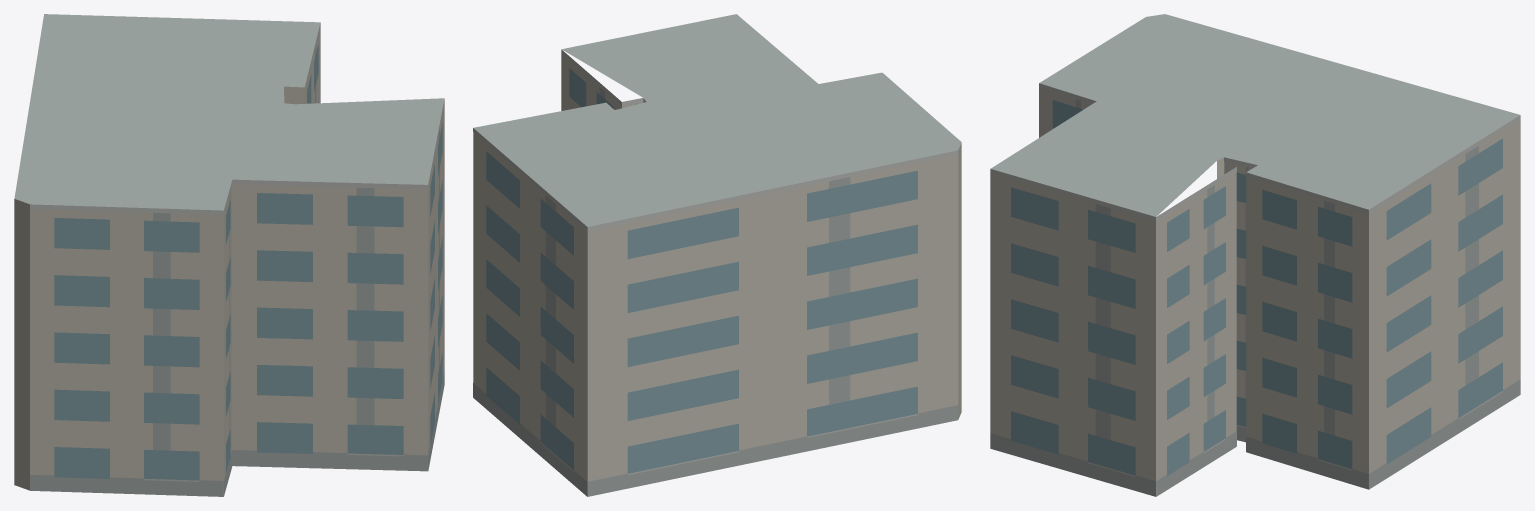
File: survey-upis-32663943.glb
3 views of the same model, side by side, from view 1: azimuth 30°, elevation 25°; view 2: azimuth 150°, elevation 25°; view 3: azimuth 270°, elevation 25° (orthographic). The views are drawn at different scales.
Parts seen in each view (by area): view 1: survey-upis-32663943.tmp; view 2: survey-upis-32663943.tmp; view 3: survey-upis-32663943.tmp.
Boxes of the visible parts, <box> form: survey-upis-32663943.tmp: <box>14,14,444,496</box>; survey-upis-32663943.tmp: <box>473,14,961,496</box>; survey-upis-32663943.tmp: <box>990,14,1520,496</box>.
Size of the model in its own units: 23.73 by 15.25 by 26.18.
